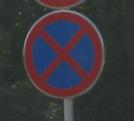No Parking: (25, 12, 106, 101)
